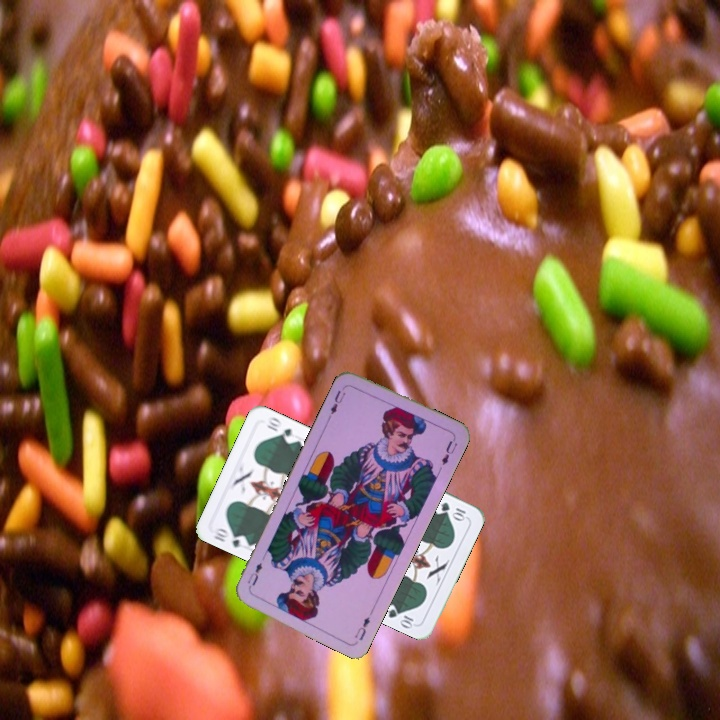EU: (325, 382, 349, 420), (351, 613, 373, 643)
G10: (209, 523, 250, 551), (437, 498, 469, 523)
